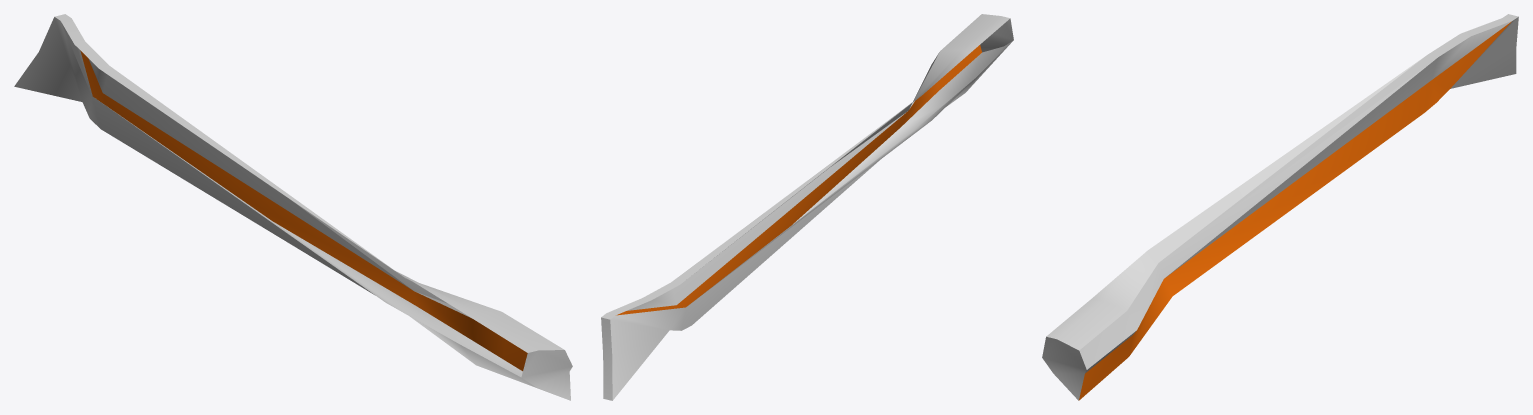
The model's file is Muscle_2_Sidepanel_3_R.fbx.
3 views of the same model, side by side, from view 1: azimuth 30°, elevation 25°; view 2: azimuth 150°, elevation 25°; view 3: azimuth 330°, elevation 25° (orthographic). The views are drawn at different scales.
Parts seen in each view (by area): view 1: Muscle_2_Sidepanel_3_R; view 2: Muscle_2_Sidepanel_3_R; view 3: Muscle_2_Sidepanel_3_R.
Boxes of the visible parts, <box> form: Muscle_2_Sidepanel_3_R: <box>14,14,572,400</box>; Muscle_2_Sidepanel_3_R: <box>601,14,1013,400</box>; Muscle_2_Sidepanel_3_R: <box>1042,14,1518,400</box>.
Size of the model in its own units: 14.5 by 18.7 by 185.
